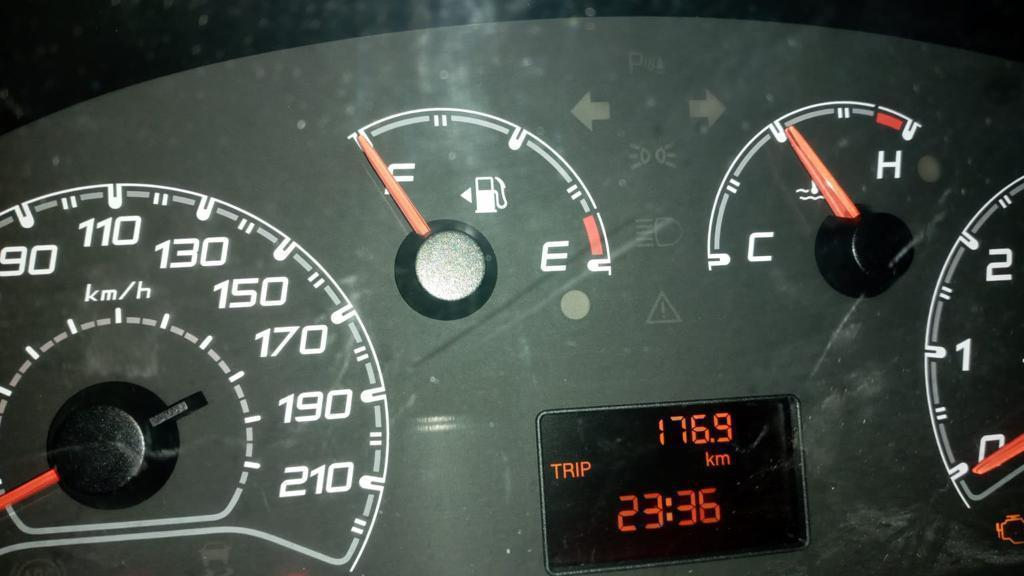,: (709, 436, 715, 443)
1: (655, 417, 666, 446)
2: (615, 493, 638, 532)
3: (641, 491, 665, 530), (675, 488, 698, 526)
6: (698, 486, 722, 524), (689, 413, 710, 445)
7: (668, 414, 689, 445)
9: (713, 411, 734, 443)
X: (663, 495, 674, 522), (714, 452, 732, 466), (548, 462, 562, 479), (561, 461, 574, 479), (703, 449, 715, 467), (579, 460, 591, 477), (574, 461, 579, 478)
odometer: (533, 388, 812, 574)
